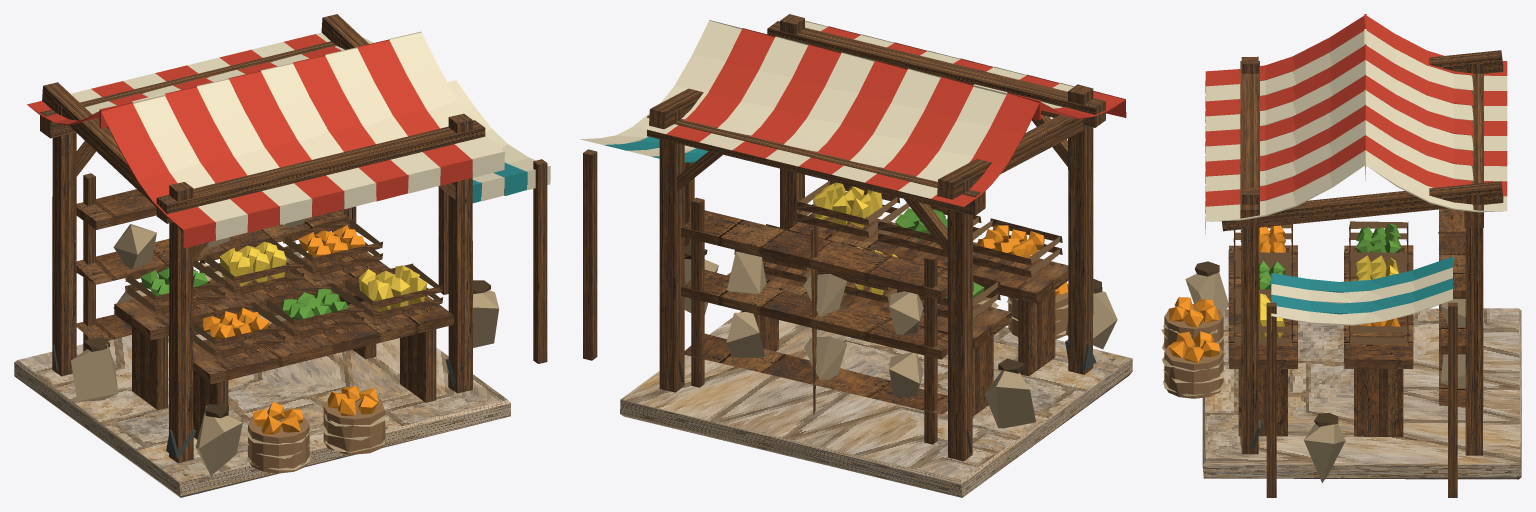
Rendered from market-lite.glb.
3 views of the same model, side by side, from view 1: azimuth 30°, elevation 25°; view 2: azimuth 150°, elevation 25°; view 3: azimuth 270°, elevation 25° (orthographic). The views are drawn at different scales.
Visible parts, largest first — view 1: Market • wood, Market • cream, Market • red, Market • stone, Market • edge, Market • sack, Market • orange, Market • corn, Market • green, Market • teal, Market • dark, Market • iron; view 2: Market • wood, Market • stone, Market • red, Market • cream, Market • sack, Market • edge, Market • corn, Market • orange, Market • green, Market • teal; view 3: Market • wood, Market • stone, Market • cream, Market • red, Market • edge, Market • teal, Market • sack, Market • orange, Market • green, Market • corn, Market • dark.
Part boxes in pixels (x1=…): Market • wood: x1=40, y1=14, x2=547, y2=463; Market • cream: x1=70, y1=31, x2=550, y2=240; Market • red: x1=27, y1=34, x2=472, y2=248; Market • stone: x1=14, y1=305, x2=510, y2=497; Market • edge: x1=127, y1=220, x2=441, y2=473; Market • sack: x1=71, y1=218, x2=499, y2=475; Market • orange: x1=202, y1=225, x2=378, y2=434; Market • corn: x1=219, y1=241, x2=427, y2=311; Market • green: x1=140, y1=267, x2=348, y2=325; Market • teal: x1=472, y1=162, x2=527, y2=203; Market • dark: x1=83, y1=280, x2=490, y2=418; Market • iron: x1=53, y1=344, x2=463, y2=458; Market • wood: x1=583, y1=14, x2=1105, y2=461; Market • stone: x1=620, y1=311, x2=1132, y2=497; Market • red: x1=666, y1=26, x2=1126, y2=206; Market • cream: x1=580, y1=20, x2=1074, y2=198; Market • sack: x1=684, y1=251, x2=1117, y2=428; Market • edge: x1=768, y1=180, x2=1068, y2=339; Market • corn: x1=813, y1=182, x2=898, y2=294; Market • orange: x1=776, y1=225, x2=1067, y2=297; Market • green: x1=895, y1=208, x2=984, y2=300; Market • teal: x1=604, y1=136, x2=708, y2=162; Market • wood: x1=1222, y1=50, x2=1503, y2=497; Market • stone: x1=1202, y1=308, x2=1521, y2=479; Market • cream: x1=1205, y1=29, x2=1507, y2=331; Market • red: x1=1205, y1=14, x2=1507, y2=213; Market • edge: x1=1164, y1=221, x2=1407, y2=398; Market • teal: x1=1270, y1=256, x2=1452, y2=314; Market • sack: x1=1161, y1=232, x2=1465, y2=482; Market • orange: x1=1168, y1=225, x2=1400, y2=362; Market • green: x1=1240, y1=223, x2=1400, y2=289; Market • corn: x1=1240, y1=255, x2=1398, y2=337; Market • dark: x1=1195, y1=261, x2=1338, y2=426.
Bounding box in the file's own units: 2.77 × 2.1 × 2.19.
Materials: 12 (2 with a texture image).
